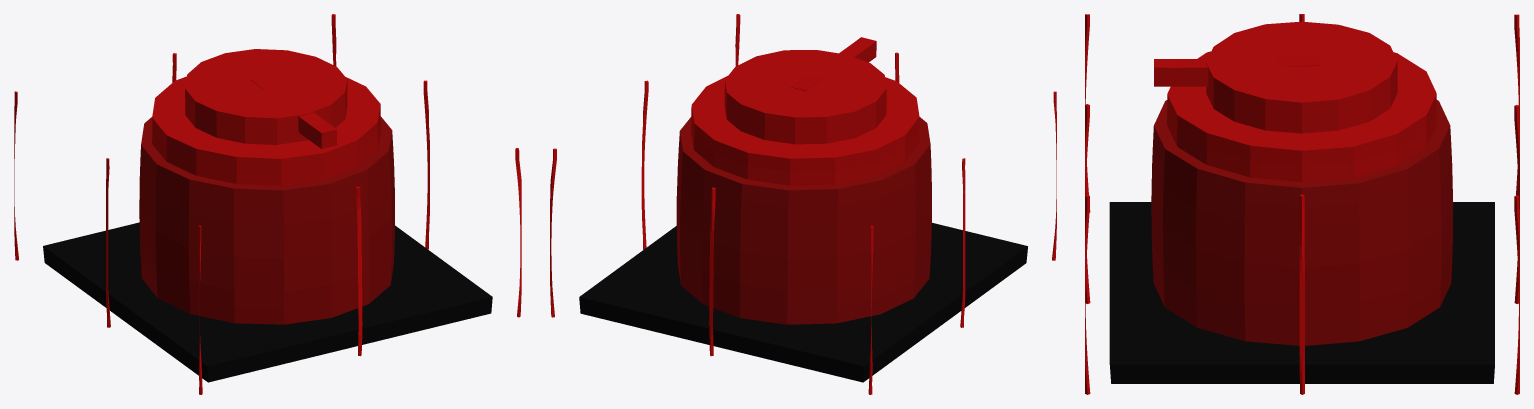
The model's file is observatory.glb.
3 views of the same model, side by side, from view 1: azimuth 30°, elevation 25°; view 2: azimuth 150°, elevation 25°; view 3: azimuth 270°, elevation 25° (orthographic). The views are drawn at different scales.
Parts seen in each view (by area): view 1: observatory; view 2: observatory; view 3: observatory.
Part boxes in pixels (x1,y1,x2,y2): observatory: (14,14,521,394); observatory: (550,14,1056,394); observatory: (1085,14,1519,394).
Size of the model in its own units: 5 by 3.06 by 5.
